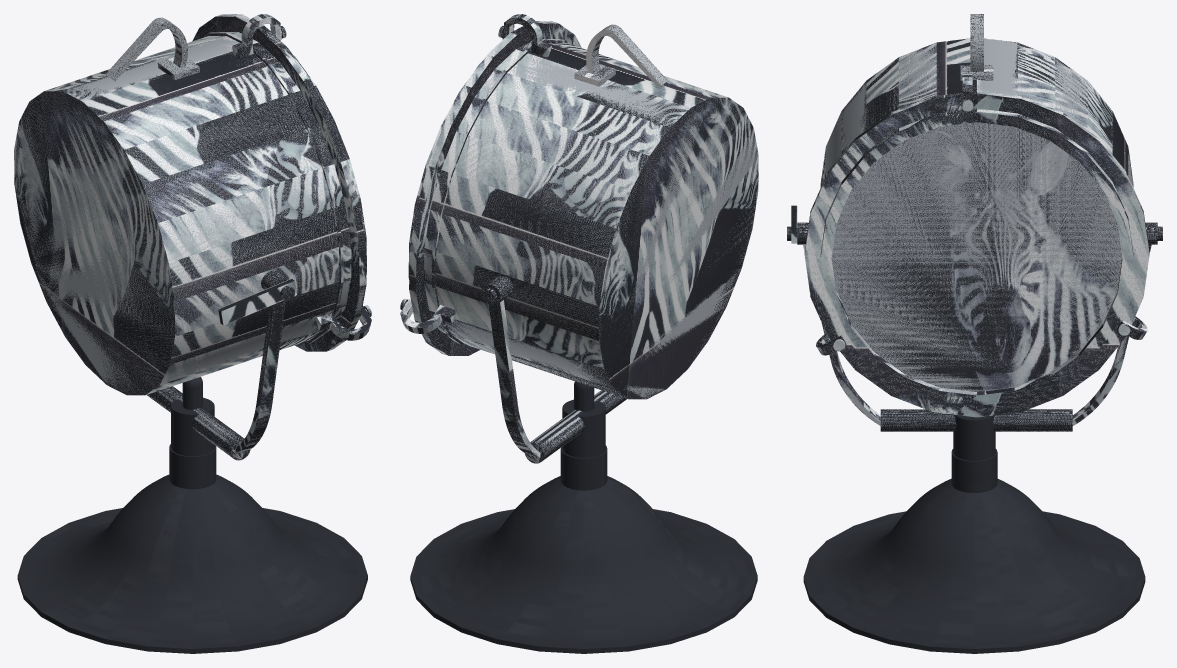
Rendered from prop_lampe_ashton.fbx.
The picture shows the model from 3 angles, left to right: view 1: azimuth 30°, elevation 25°; view 2: azimuth 150°, elevation 25°; view 3: azimuth 270°, elevation 25°; orthographic projection. The views are drawn at different scales.
Parts seen in each view (by area): view 1: Group7, Group5, Group6, Group8, Group3, Group1, Group9, Group11; view 2: Group7, Group5, Group2, Group8, Group3, Group10, Group9, Group4; view 3: Group7, Group5, Group3, Group8, Group2, Group6, Group4.
Part boxes in pixels (x1,y1,x2,y2): Group7: [14, 14, 366, 395]; Group5: [17, 377, 367, 653]; Group6: [235, 300, 285, 454]; Group8: [105, 17, 199, 81]; Group3: [147, 386, 250, 460]; Group1: [218, 278, 296, 325]; Group9: [232, 14, 286, 58]; Group11: [314, 305, 371, 340]; Group7: [408, 21, 758, 399]; Group5: [410, 381, 757, 653]; Group2: [488, 300, 540, 457]; Group8: [574, 24, 667, 87]; Group3: [525, 390, 626, 463]; Group10: [400, 298, 456, 333]; Group9: [498, 14, 551, 57]; Group4: [481, 275, 513, 305]; Group7: [804, 38, 1149, 417]; Group5: [803, 414, 1145, 653]; Group3: [880, 409, 1072, 431]; Group8: [960, 14, 993, 80]; Group2: [1072, 244, 1151, 425]; Group6: [803, 244, 880, 425]; Group4: [787, 222, 1162, 244].
Bounding box in the file's own units: 0.2839 × 0.5064 × 0.3122.
